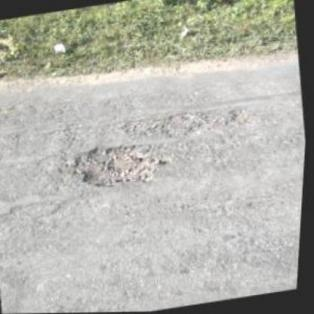Hueco: (68, 136, 170, 195), (121, 108, 220, 146), (223, 106, 265, 132)
